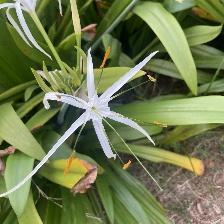spider lily: (68, 85, 131, 148)
